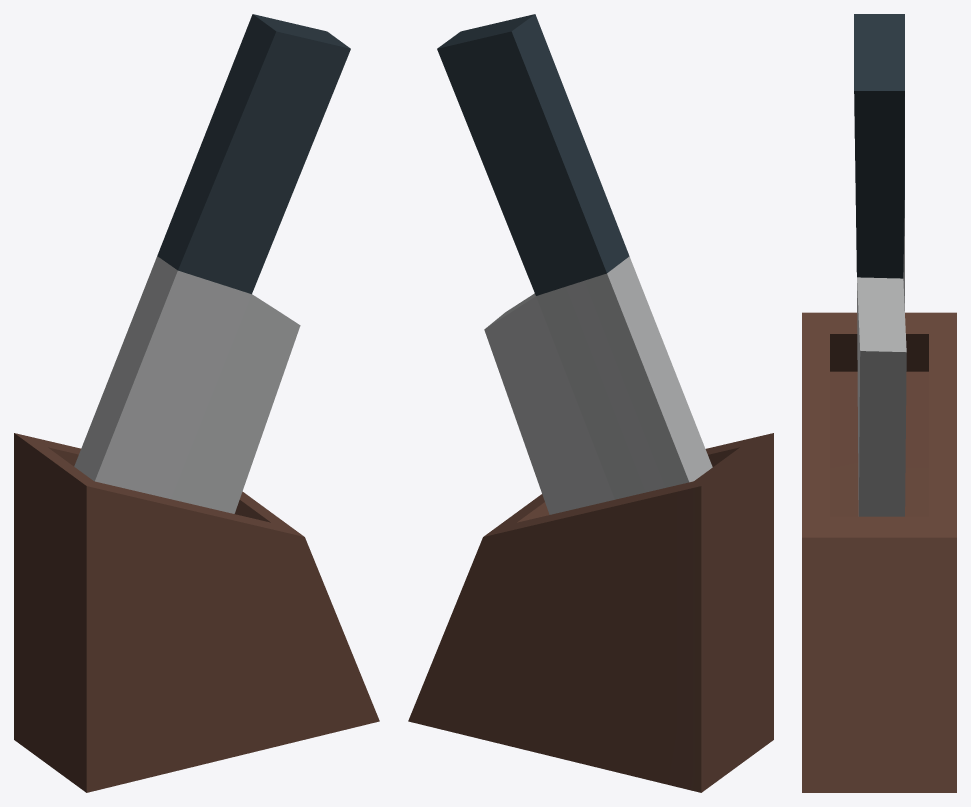
The model's file is knife.fbx.
The picture shows the model from 3 angles, left to right: view 1: azimuth 30°, elevation 25°; view 2: azimuth 150°, elevation 25°; view 3: azimuth 270°, elevation 25°; orthographic projection. The views are drawn at different scales.
Visible parts, largest first — view 1: Cube, Cube.001, Cube.002; view 2: Cube, Cube.001, Cube.002; view 3: Cube, Cube.002, Cube.001.
Boxes of the visible parts, left/top/right/bottom form: Cube: left=14, top=433, right=379, bottom=792; Cube.001: left=74, top=256, right=300, bottom=513; Cube.002: left=157, top=14, right=350, bottom=294; Cube: left=408, top=433, right=773, bottom=792; Cube.001: left=484, top=256, right=712, bottom=514; Cube.002: left=437, top=14, right=629, bottom=295; Cube: left=802, top=312, right=956, bottom=792; Cube.002: left=854, top=14, right=904, bottom=278; Cube.001: left=857, top=200, right=906, bottom=516.
Bounding box in the file's own units: 129 × 291 × 55.26.
